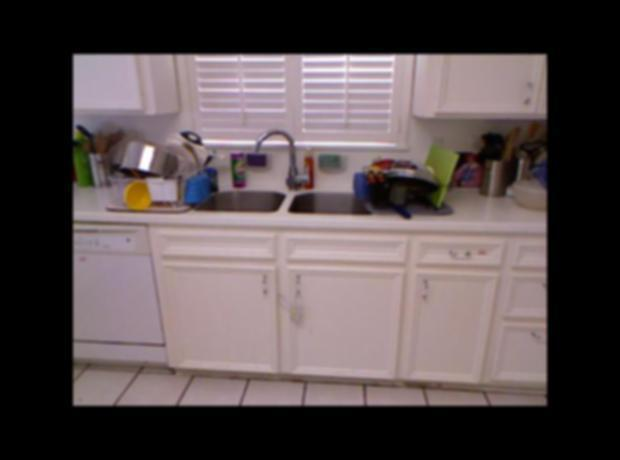Lavaplatos: (195, 120, 396, 226)
